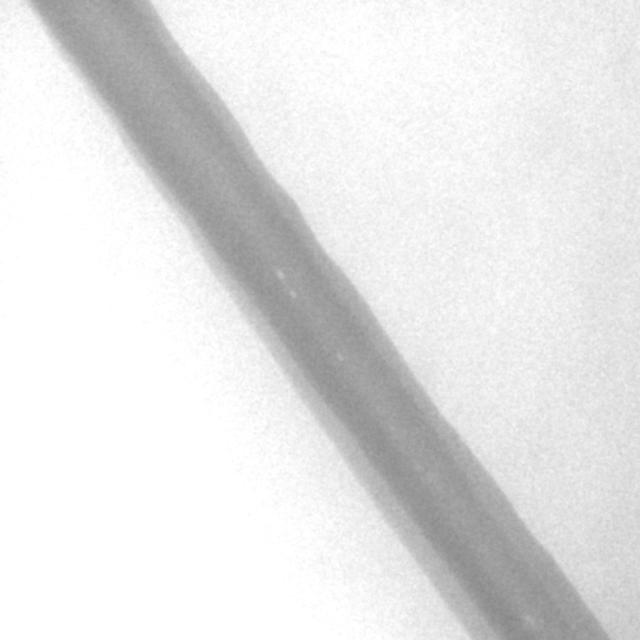air hole: (332, 349, 345, 365), (274, 267, 285, 282), (288, 288, 298, 301)
